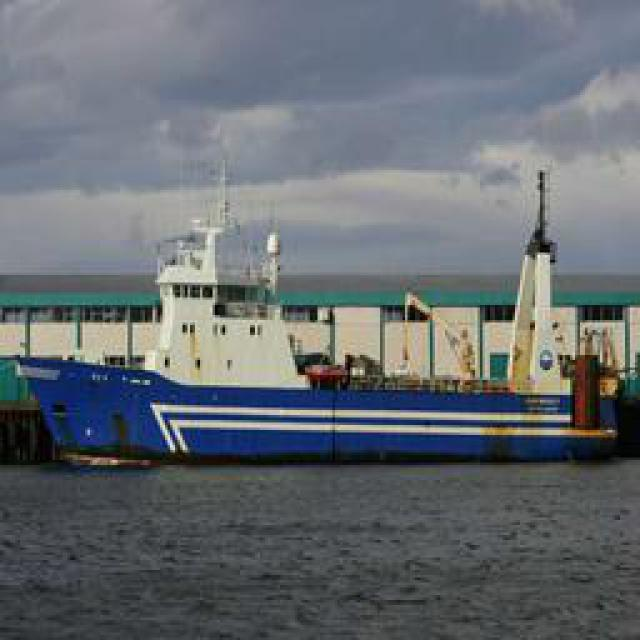Ship: (21, 171, 631, 464)
